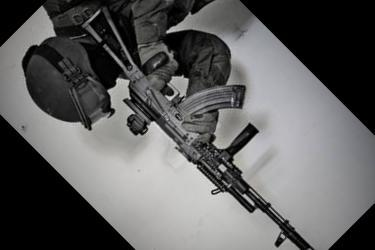larga: (81, 6, 314, 250)
